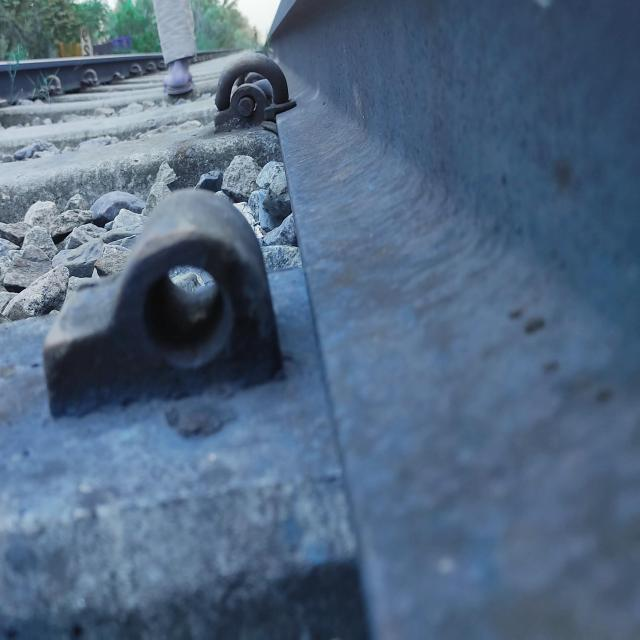Good Fasteners: (214, 53, 296, 133)
Missing Fastener: (29, 182, 313, 439)
